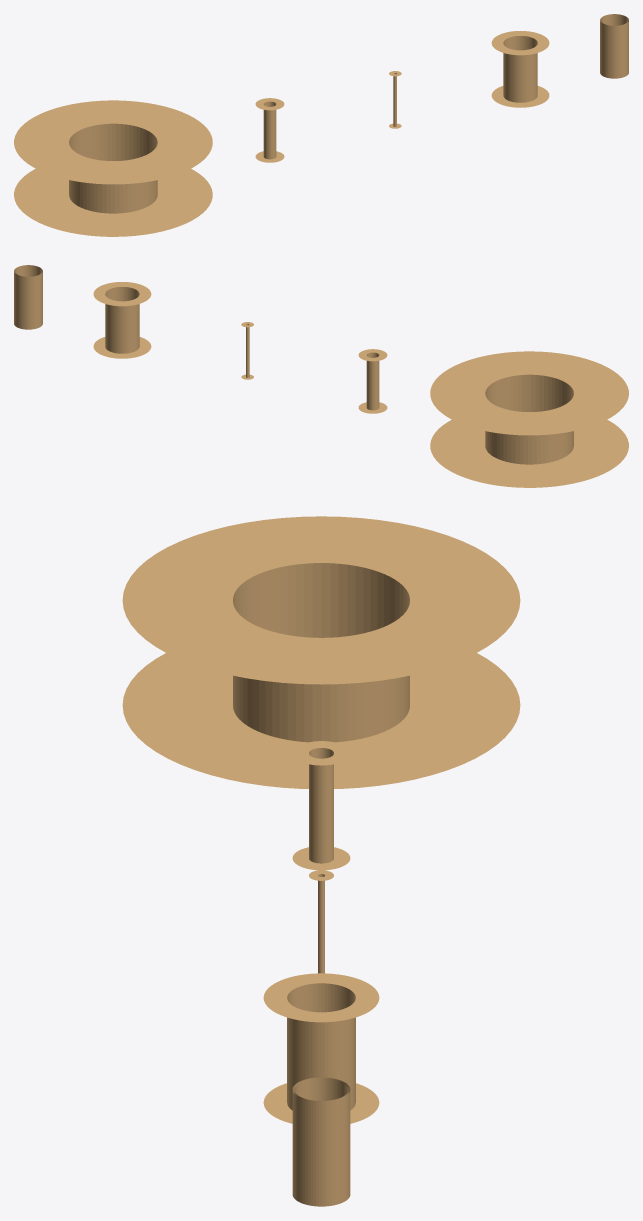
File: board.glb
3 views of the same model, one above another, from view 1: azimuth 30°, elevation 25°; view 2: azimuth 150°, elevation 25°; view 3: azimuth 270°, elevation 25° (orthographic). The views are drawn at different scales.
Parts seen in each view (by area): view 1: Unified_Via_0, Unified_Via_3, Bare_Tube_4, Unified_Via_1; view 2: Unified_Via_0, Unified_Via_3, Bare_Tube_4, Unified_Via_1; view 3: Unified_Via_0, Unified_Via_3, Bare_Tube_4, Unified_Via_1.
Part boxes in pixels (left/top/right/bottom): Unified_Via_0: left=14, top=100, right=212, bottom=236; Unified_Via_3: left=491, top=31, right=549, bottom=107; Bare_Tube_4: left=600, top=14, right=628, bottom=78; Unified_Via_1: left=255, top=98, right=284, bottom=162; Unified_Via_0: left=430, top=351, right=628, bottom=487; Unified_Via_3: left=93, top=282, right=151, bottom=358; Bare_Tube_4: left=14, top=265, right=42, bottom=329; Unified_Via_1: left=358, top=349, right=387, bottom=413; Unified_Via_0: left=122, top=516, right=520, bottom=788; Unified_Via_3: left=263, top=973, right=379, bottom=1123; Bare_Tube_4: left=292, top=1077, right=350, bottom=1206; Unified_Via_1: left=292, top=741, right=350, bottom=870.
Size of the model in its own units: 0.0191 by 0.0016 by 0.0055.
